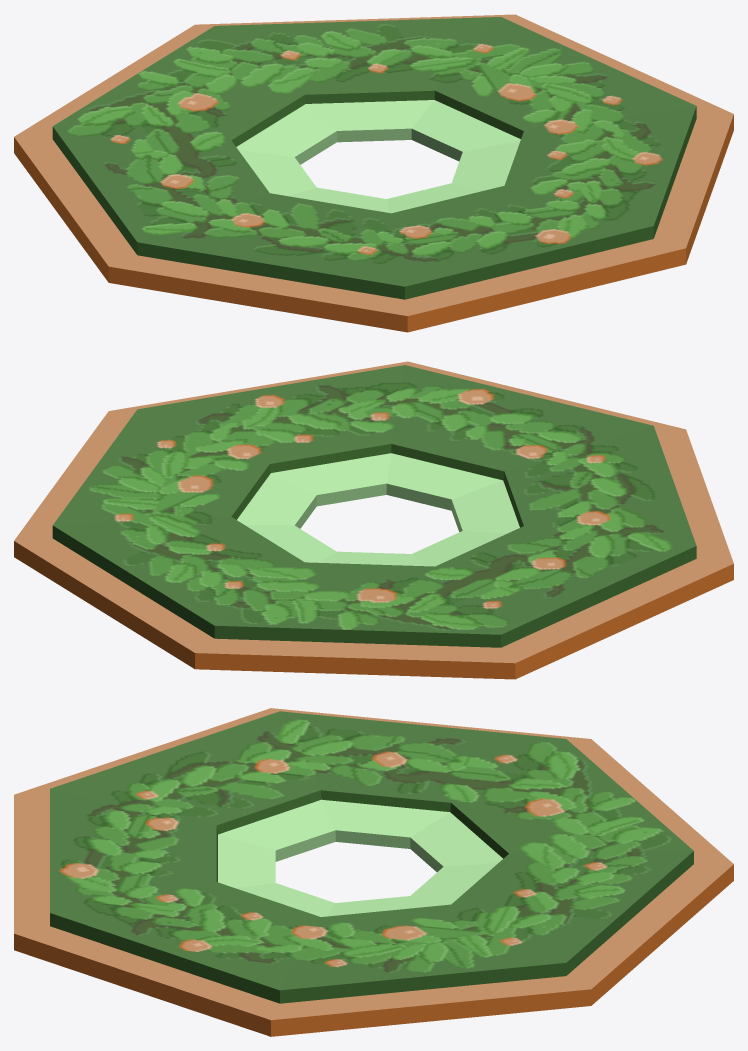
Rendered from Herb Coin.fbx.
The picture shows the model from 3 angles, top to bottom: view 1: azimuth 30°, elevation 25°; view 2: azimuth 150°, elevation 25°; view 3: azimuth 270°, elevation 25°; orthographic projection. The views are drawn at different scales.
Visible parts, largest first — view 1: (Green) Herb Coin; view 2: (Green) Herb Coin; view 3: (Green) Herb Coin.
Boxes of the visible parts, x1,y1,x2,y2 form: (Green) Herb Coin: [14, 14, 733, 332]; (Green) Herb Coin: [14, 361, 733, 679]; (Green) Herb Coin: [14, 708, 733, 1036].
Bounding box in the file's own units: 218 × 14.08 × 213.
